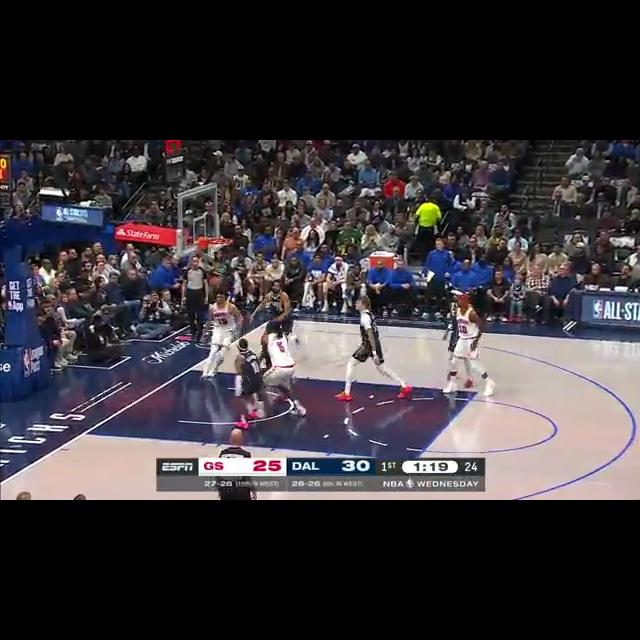Team-1-Player: (330, 293, 410, 402), (230, 334, 266, 428), (248, 272, 296, 334)
Team-2-Player: (437, 290, 498, 394), (254, 318, 310, 418), (202, 286, 242, 378)
